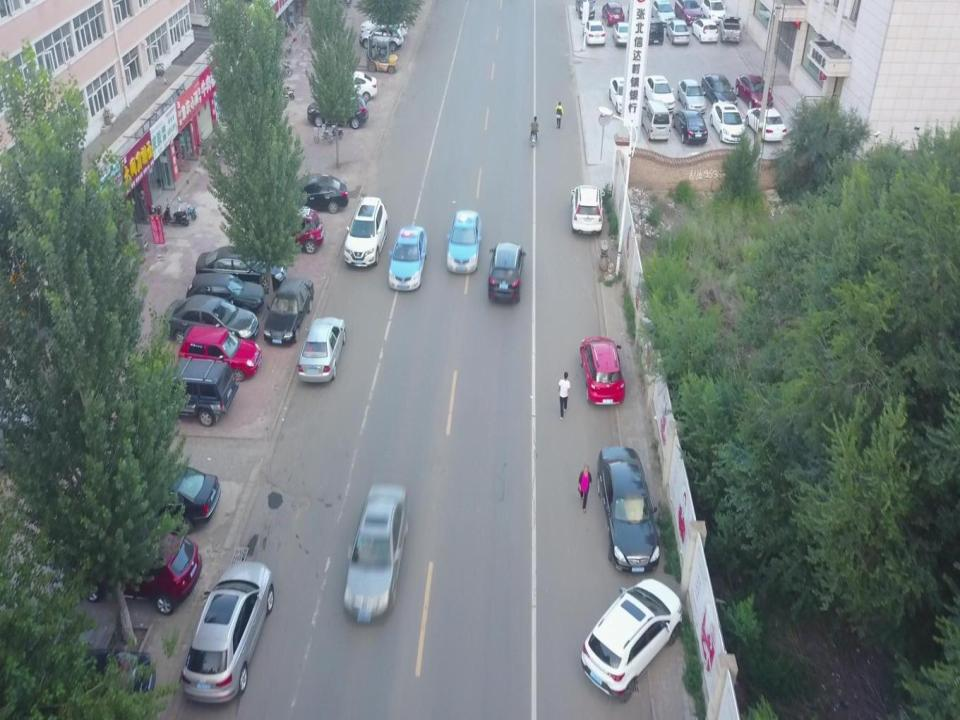car: (181, 558, 274, 702), (581, 579, 682, 704), (82, 525, 202, 615), (9, 645, 153, 720), (342, 482, 408, 620), (342, 481, 407, 619), (596, 445, 660, 572), (116, 464, 221, 534), (162, 295, 259, 351), (178, 323, 262, 381), (196, 246, 287, 294), (263, 276, 314, 345), (297, 316, 346, 380), (580, 335, 625, 403), (344, 197, 388, 266), (276, 173, 348, 214), (186, 274, 263, 312), (265, 205, 324, 253), (388, 224, 427, 292), (488, 241, 526, 301), (447, 210, 482, 273), (306, 94, 368, 128), (324, 71, 377, 102), (709, 102, 747, 145), (571, 186, 605, 234), (700, 73, 738, 111), (746, 106, 787, 140), (735, 74, 773, 110), (360, 14, 407, 42), (359, 23, 404, 51), (673, 109, 708, 144), (677, 78, 707, 116), (643, 75, 674, 111), (608, 77, 634, 113), (675, 0, 703, 24), (642, 16, 664, 45), (582, 19, 606, 45), (692, 18, 718, 42), (700, 0, 726, 24), (650, 0, 675, 24), (601, 2, 625, 26), (666, 19, 689, 44), (612, 21, 633, 47)
truck: (718, 14, 741, 42)
van: (143, 358, 237, 426), (640, 100, 671, 141), (575, 0, 596, 20)
